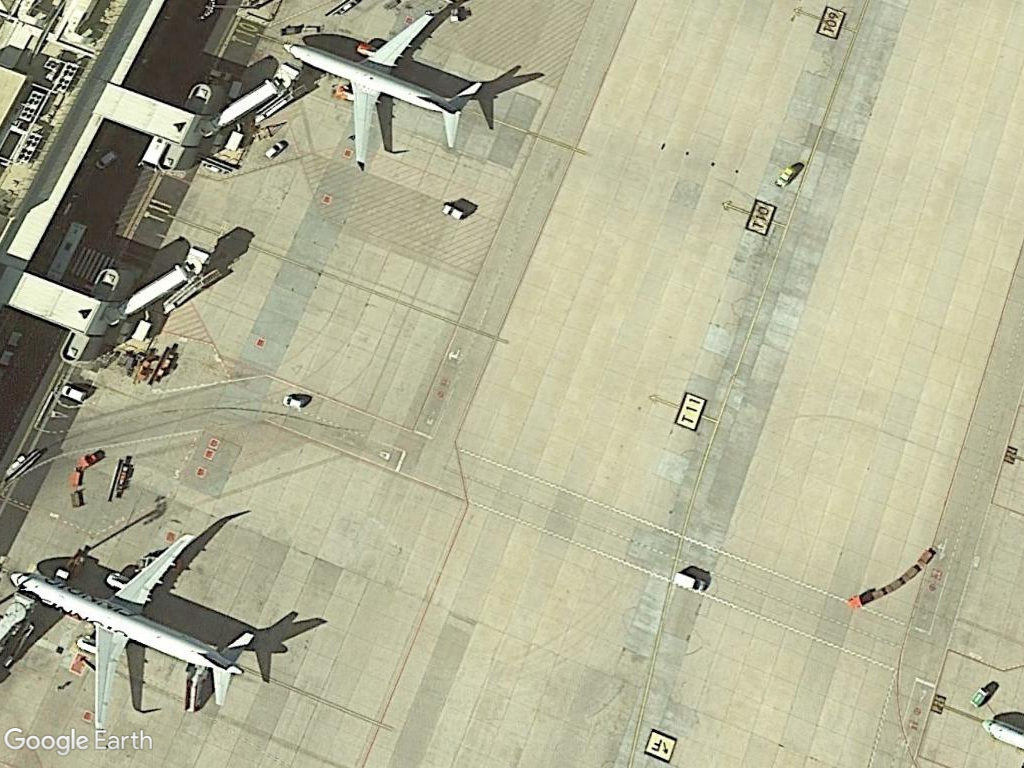airliner: (2, 520, 261, 742), (280, 0, 489, 175)
